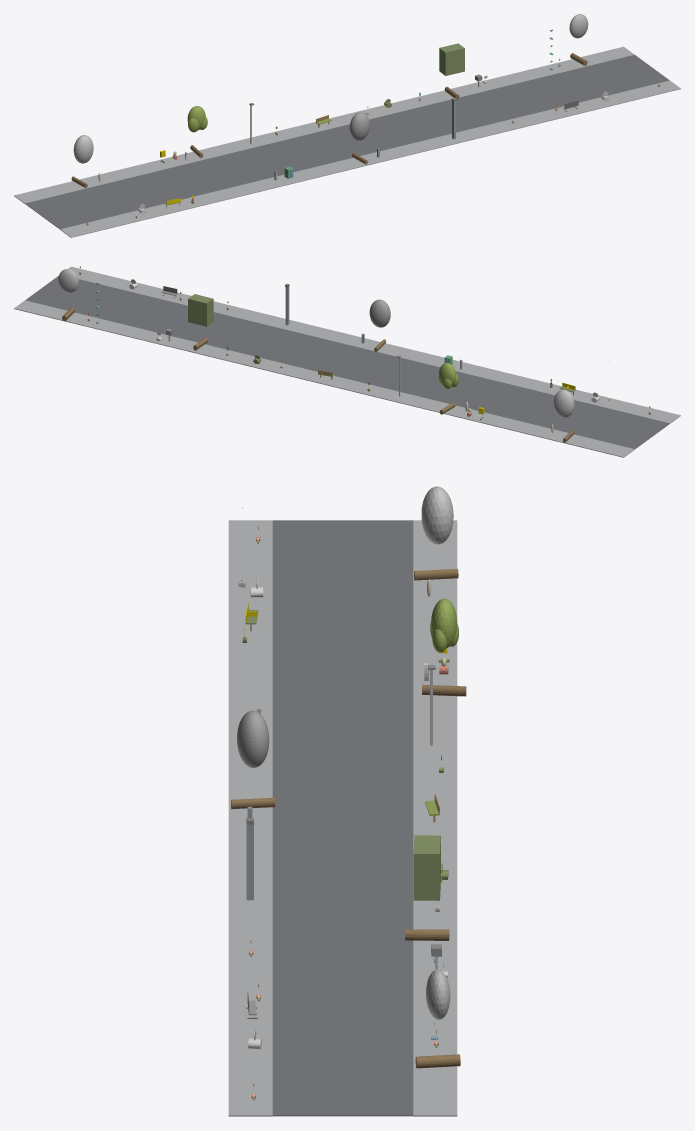
3 views of the same model, one above another, from view 1: azimuth 30°, elevation 25°; view 2: azimuth 150°, elevation 25°; view 3: azimuth 270°, elevation 25° (orthographic). The views are drawn at different scales.
Parts seen in each view (by area): view 1: road_slab, sidewalk_left, sidewalk_right, inst_0015, inst_0012, inst_0014, inst_0013, inst_0016; view 2: road_slab, sidewalk_right, sidewalk_left, inst_0015, inst_0012, inst_0014, inst_0016, inst_0013; view 3: road_slab, sidewalk_left, sidewalk_right, inst_0015, inst_0012, inst_0014, inst_0013, inst_0016.
Boxes of the visible parts, box(x1,y1,x2,y2) form: road_slab: box(25, 54, 669, 229); sidewalk_left: box(60, 80, 680, 237); sidewalk_right: box(14, 46, 634, 203); inst_0015: box(439, 43, 464, 99); inst_0012: box(71, 135, 93, 188); inst_0014: box(349, 112, 369, 164); inst_0013: box(187, 106, 207, 158); inst_0016: box(569, 14, 588, 65); road_slab: box(25, 276, 669, 449); sidewalk_right: box(14, 300, 634, 457); sidewalk_left: box(68, 266, 680, 423); inst_0015: box(188, 294, 213, 350); inst_0012: box(553, 389, 574, 442); inst_0014: box(369, 299, 390, 351); inst_0016: box(58, 269, 78, 321); inst_0013: box(438, 362, 458, 414); road_slab: box(272, 520, 413, 1116); sidewalk_left: box(228, 520, 272, 1116); sidewalk_right: box(413, 520, 457, 1116); inst_0015: box(405, 835, 449, 940); inst_0012: box(414, 486, 458, 580); inst_0014: box(231, 710, 275, 809); inst_0013: box(422, 598, 466, 696); inst_0016: box(415, 969, 460, 1068).
Size of the model in its own units: 80 by 6.08 by 13.51.
